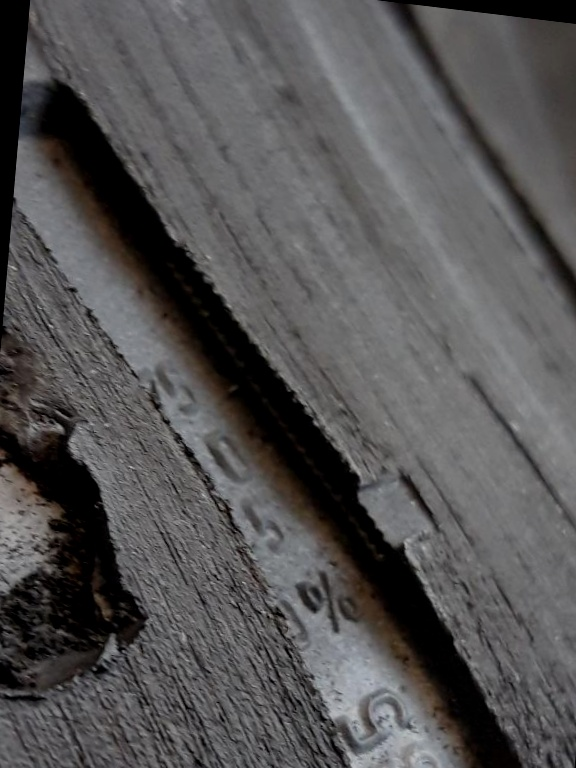temoin:0: (314, 425, 461, 585)
